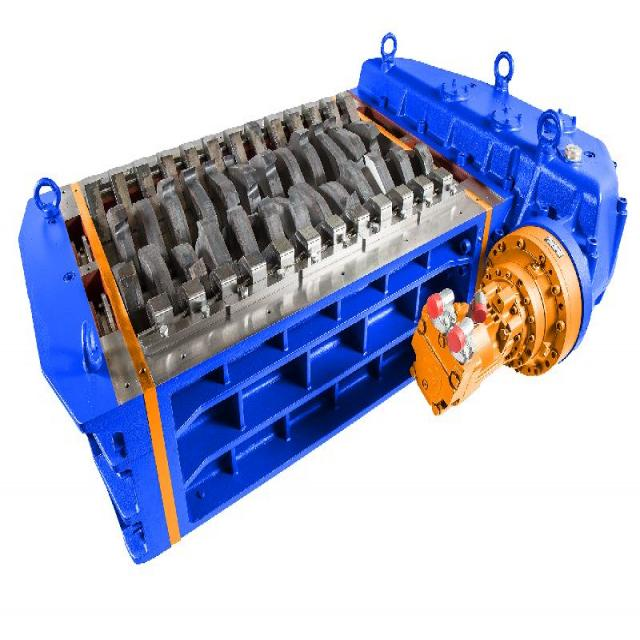Broyeur: (44, 73, 494, 440)
